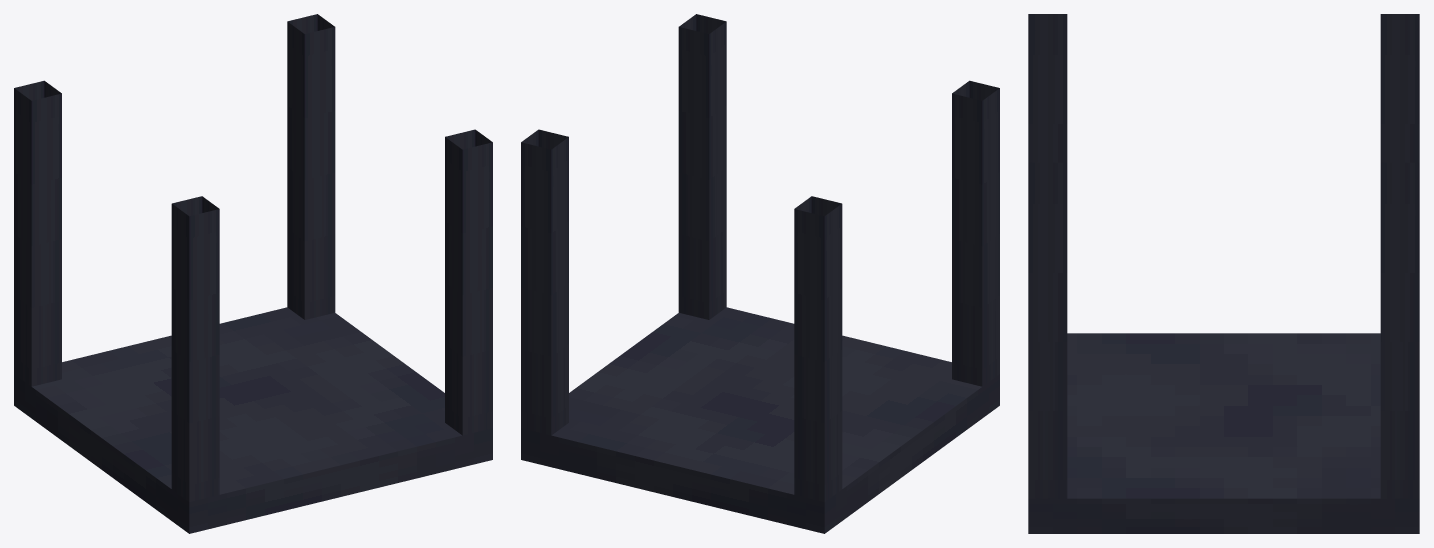
Rendered from glasscube_bot.obj.
3 views of the same model, side by side, from view 1: azimuth 30°, elevation 25°; view 2: azimuth 150°, elevation 25°; view 3: azimuth 270°, elevation 25° (orthographic). The views are drawn at different scales.
Parts seen in each view (by area): view 1: Cube.001_Cube.000; view 2: Cube.001_Cube.000; view 3: Cube.001_Cube.000.
Part boxes in pixels (box(x1,y1,x2,y2)): Cube.001_Cube.000: box(14, 14, 492, 533); Cube.001_Cube.000: box(521, 14, 999, 533); Cube.001_Cube.000: box(1028, 14, 1419, 533).
Bounding box in the file's own units: 1 × 1 × 1.
